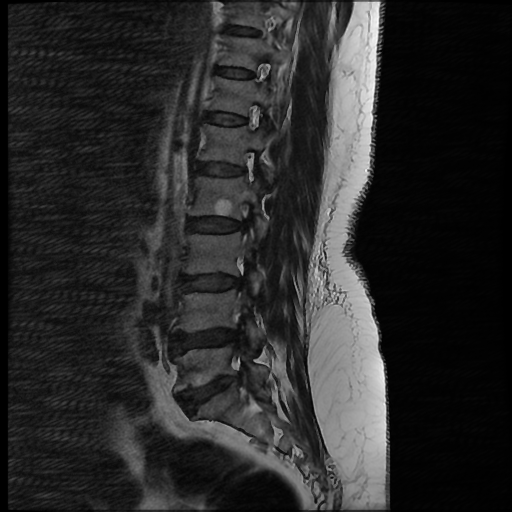RFS0: (232, 143, 265, 187)
